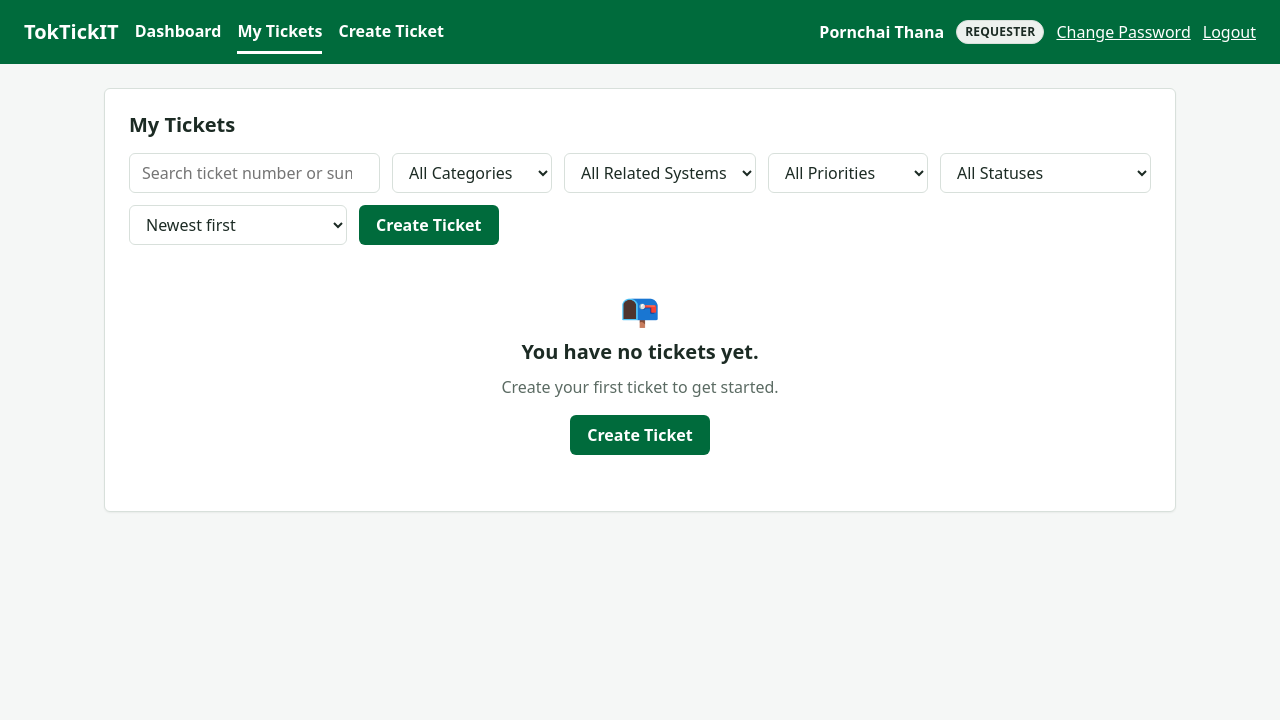
Test case: application identity and navigation › navigates from My Tickets to Create Ticket
Step 1. Click the link "Create Ticket" → click(391, 30), box [338,20,444,42]
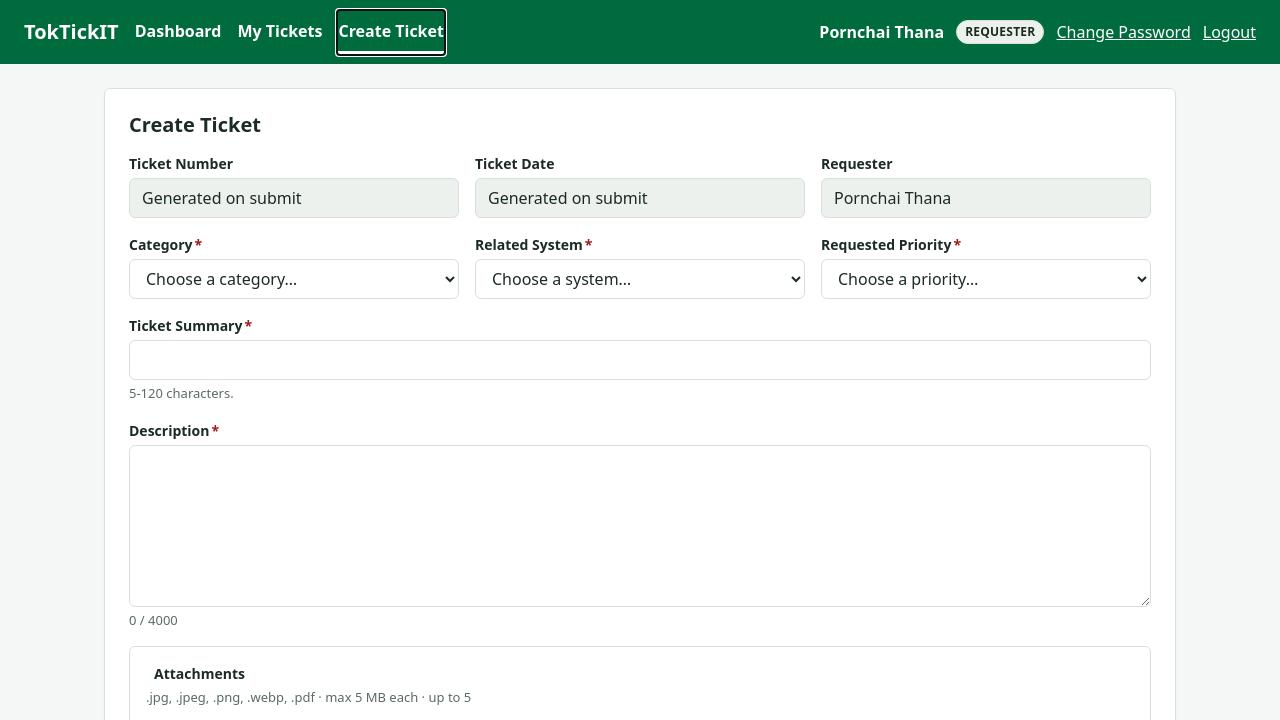
Expected: the field labelled "Ticket Summary*" is shown, [129,340,1151,380]
